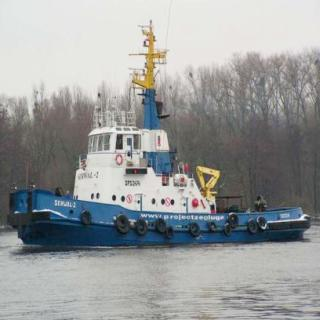Tug Boat: (6, 69, 296, 245)
